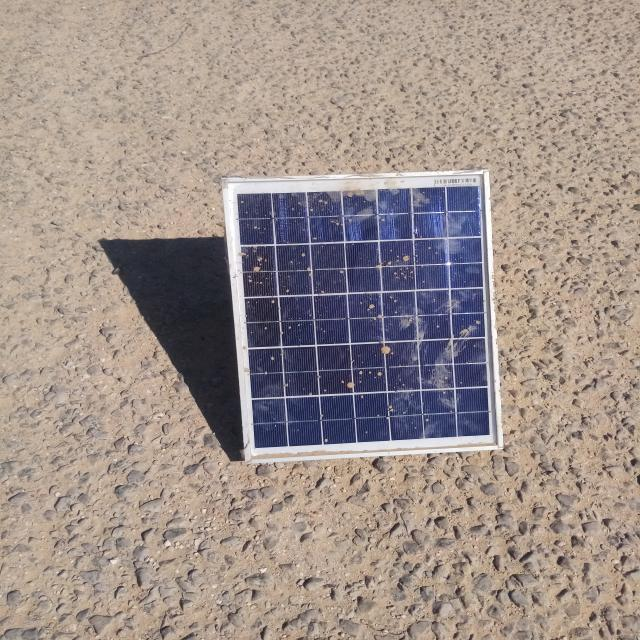faulty: (226, 172, 501, 461)
